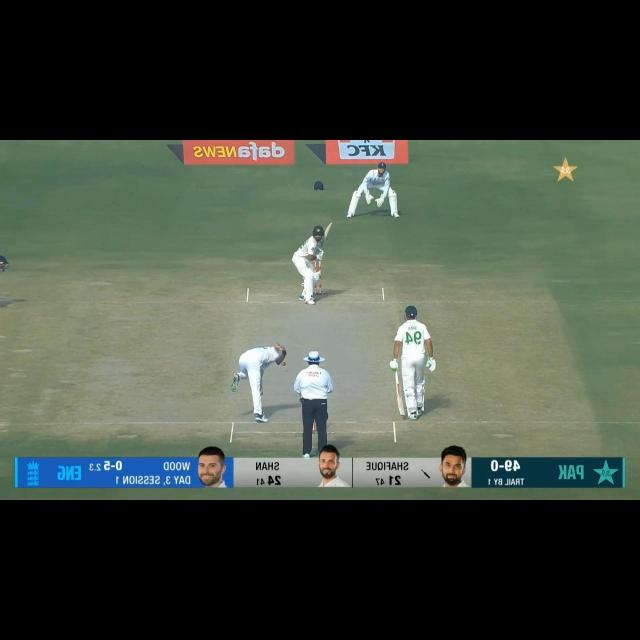bat: (389, 384, 410, 419), (317, 221, 332, 256)
toe: (395, 406, 408, 418), (325, 220, 335, 231)
